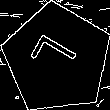L_SE: (28, 33, 86, 85)
